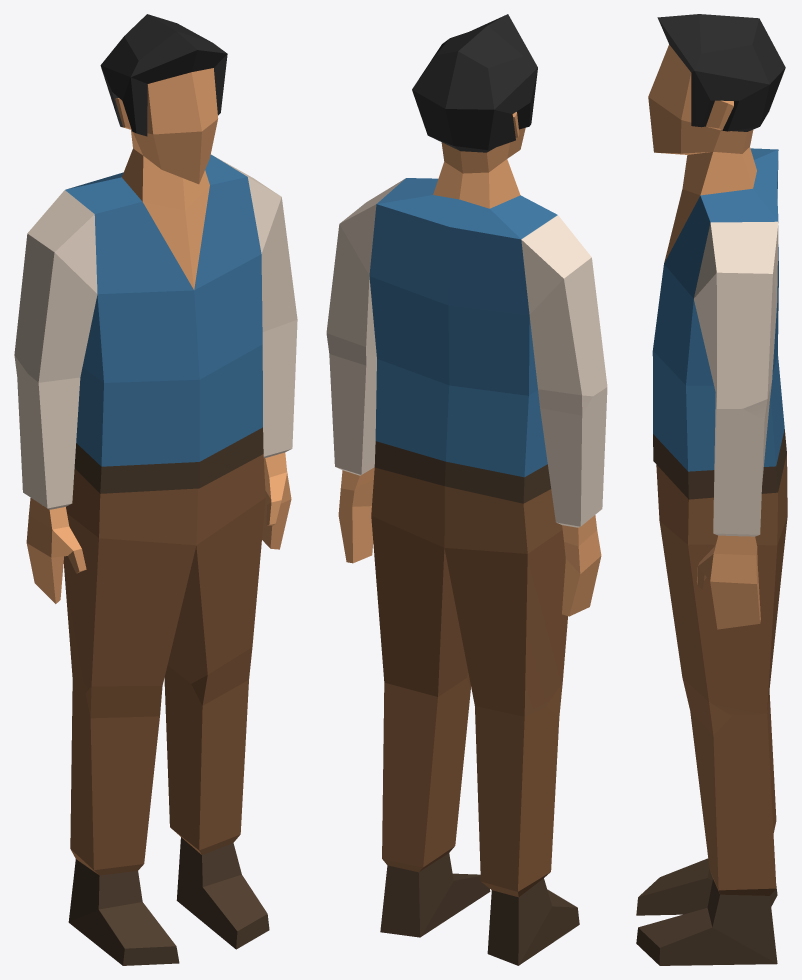
The model's file is people_man-lad.fbx.
The picture shows the model from 3 angles, left to right: view 1: azimuth 30°, elevation 25°; view 2: azimuth 150°, elevation 25°; view 3: azimuth 270°, elevation 25°; orthographic projection. The views are drawn at different scales.
Visible parts, largest first — view 1: people_man_lad; view 2: people_man_lad; view 3: people_man_lad.
Boxes of the visible parts, bbox=[...] form: people_man_lad: bbox=[14, 14, 297, 965]; people_man_lad: bbox=[326, 14, 607, 965]; people_man_lad: bbox=[636, 14, 787, 965].
Size of the model in its own units: 60.04 by 200 by 29.95.
